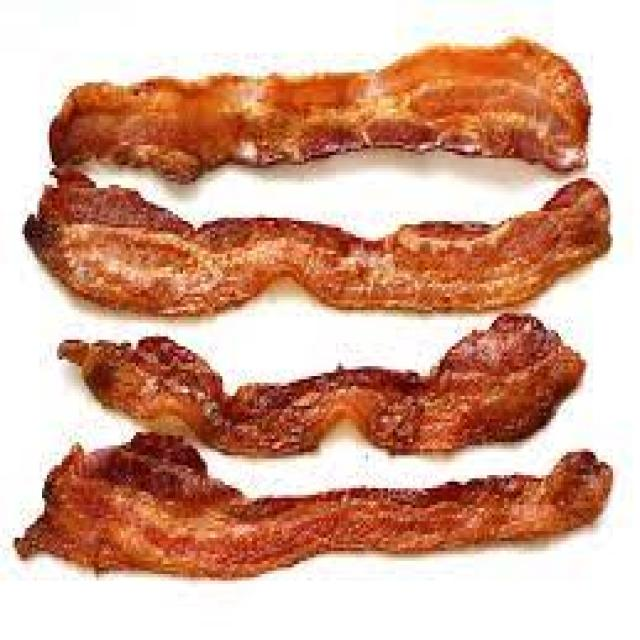bacon: (13, 36, 623, 594)
